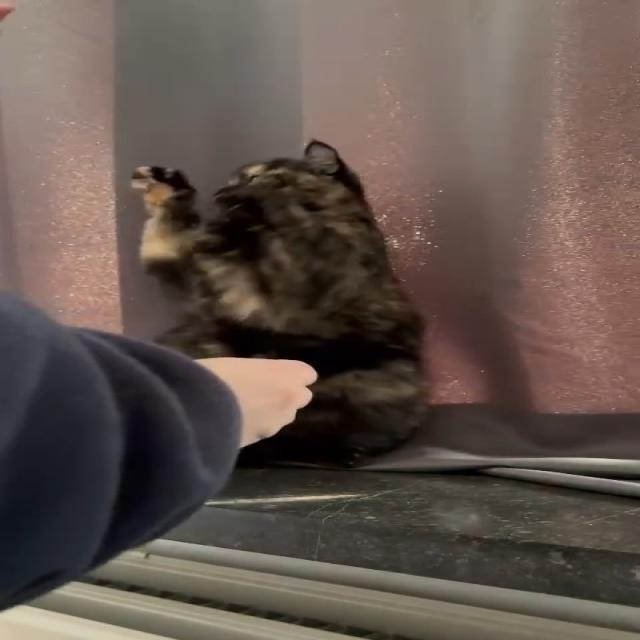authorized: (128, 138, 432, 469)
